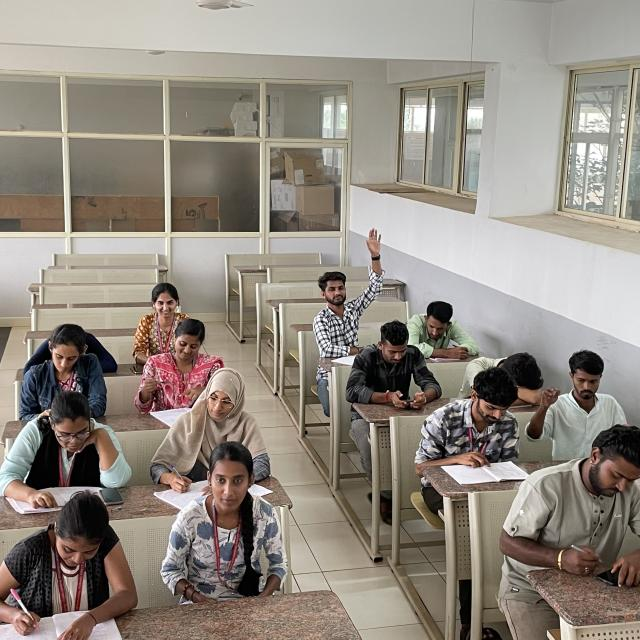Hand Rising: (311, 226, 388, 342)
Reading: (410, 365, 533, 488), (0, 385, 122, 504), (0, 321, 114, 419)
Using Phone: (344, 319, 438, 409)
Writing: (0, 486, 148, 638), (147, 368, 268, 491)
